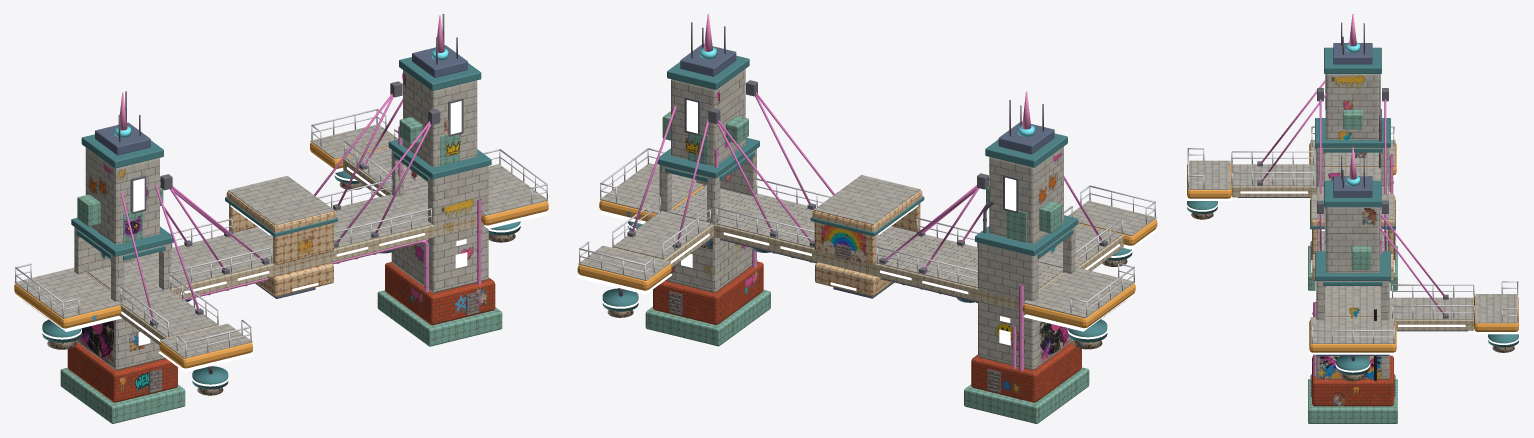
Rendered from SkyBridge.glb.
3 views of the same model, side by side, from view 1: azimuth 30°, elevation 25°; view 2: azimuth 150°, elevation 25°; view 3: azimuth 270°, elevation 25° (orthographic). The views are drawn at different scales.
Visible parts, largest first — view 1: TL_Upper, TL_Collar, TL_Foot, TL_Plinth, Module_Low, TL_Slot-1, Mural_Record.001, TL_Vent-1_s0, Gfx_TLCat; view 2: TL_Upper, TL_Collar, TL_Foot, TL_Plinth, Module_Low, TL_Slot-1, Mural_Record.001, TL_Vent-1_s0; view 3: TL_Upper, TL_Collar, TL_Foot, TL_Plinth, Mural_Record.001, TL_Slot-1, Module_Low, TL_Vent-1_s0, TL_Spire.
Part boxes in pixels (x1=…): TL_Upper: x1=14, y1=70, x2=548, y2=370; TL_Collar: x1=14, y1=14, x2=548, y2=393; TL_Foot: x1=60, y1=117, x2=502, y2=423; TL_Plinth: x1=67, y1=262, x2=495, y2=402; Module_Low: x1=226, y1=191, x2=336, y2=296; TL_Slot-1: x1=15, y1=101, x2=547, y2=386; Mural_Record.001: x1=79, y1=73, x2=487, y2=391; TL_Vent-1_s0: x1=47, y1=182, x2=515, y2=395; Gfx_TLCat: x1=124, y1=140, x2=473, y2=392; TL_Upper: x1=578, y1=69, x2=1156, y2=370; TL_Collar: x1=577, y1=22, x2=1157, y2=400; TL_Foot: x1=612, y1=111, x2=1123, y2=423; TL_Plinth: x1=653, y1=261, x2=1081, y2=402; Module_Low: x1=812, y1=190, x2=922, y2=296; TL_Slot-1: x1=577, y1=100, x2=1157, y2=345; Mural_Record.001: x1=626, y1=91, x2=1072, y2=393; TL_Vent-1_s0: x1=607, y1=245, x2=1127, y2=392; TL_Upper: x1=1188, y1=74, x2=1517, y2=379; TL_Collar: x1=1187, y1=22, x2=1518, y2=397; TL_Foot: x1=1232, y1=109, x2=1473, y2=423; TL_Plinth: x1=1312, y1=229, x2=1393, y2=406; Mural_Record.001: x1=1318, y1=75, x2=1381, y2=405; TL_Slot-1: x1=1186, y1=77, x2=1519, y2=372; Module_Low: x1=1310, y1=195, x2=1395, y2=281; TL_Vent-1_s0: x1=1191, y1=213, x2=1514, y2=396; TL_Spire: x1=1349, y1=14, x2=1356, y2=179.
Bounding box in the file's own units: 34.4 × 20.5 × 23.66.
12 materials, 8 textured.
